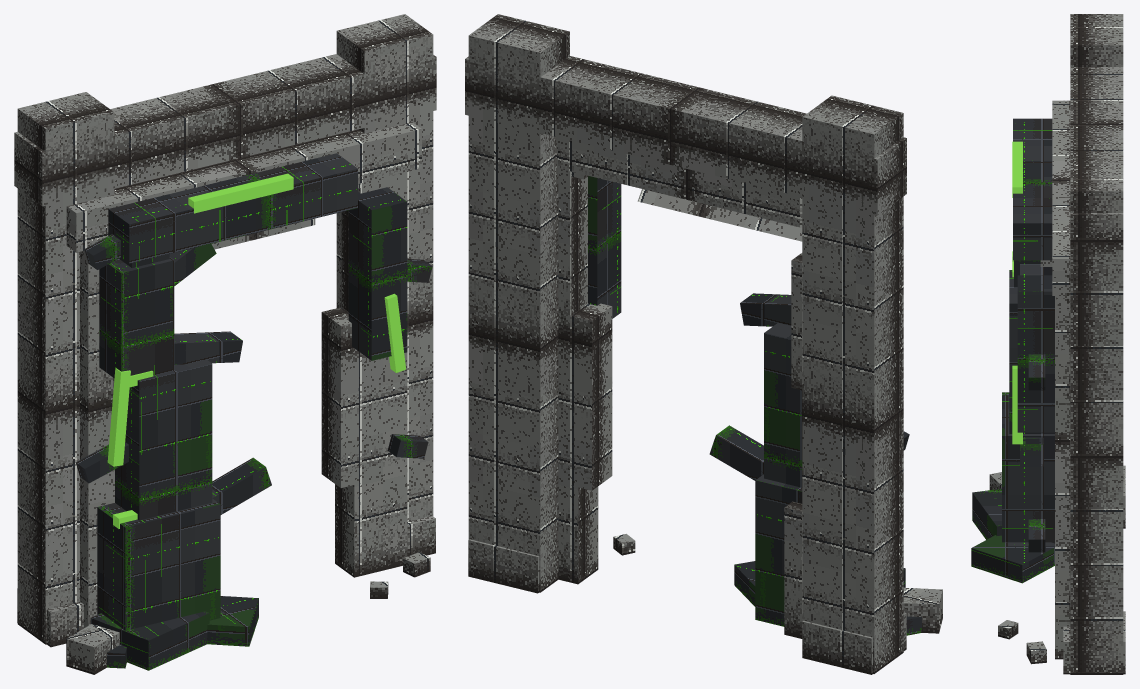
The model's file is portal_b2_wound.glb.
3 views of the same model, side by side, from view 1: azimuth 30°, elevation 25°; view 2: azimuth 150°, elevation 25°; view 3: azimuth 270°, elevation 25° (orthographic). The views are drawn at different scales.
Visible parts, largest first — view 1: portal_b2_wound; view 2: portal_b2_wound; view 3: portal_b2_wound.
Boxes of the visible parts, x1,y1,x2,y2 form: portal_b2_wound: (14,14,436,674); portal_b2_wound: (465,14,942,674); portal_b2_wound: (971,14,1125,674).
Bounding box in the file's own units: 3.59 × 4.45 × 1.29.
3 materials, 2 textured.
